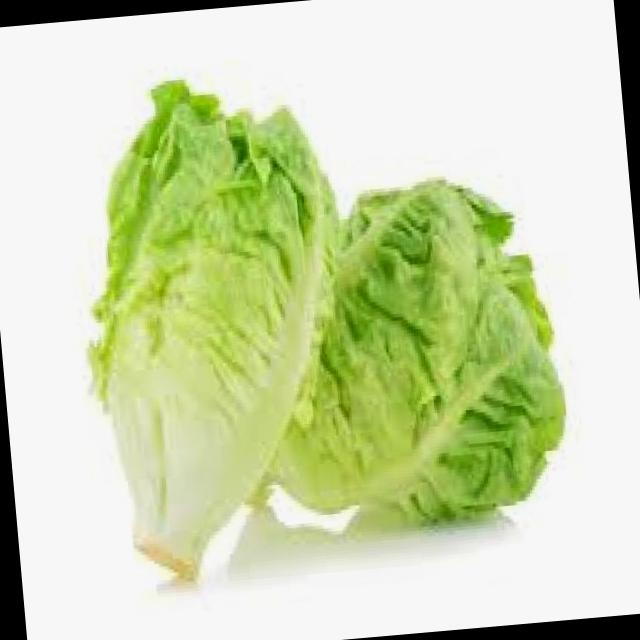Lettuce-Ready-to-Harvest: (90, 80, 337, 577), (274, 180, 564, 520)
